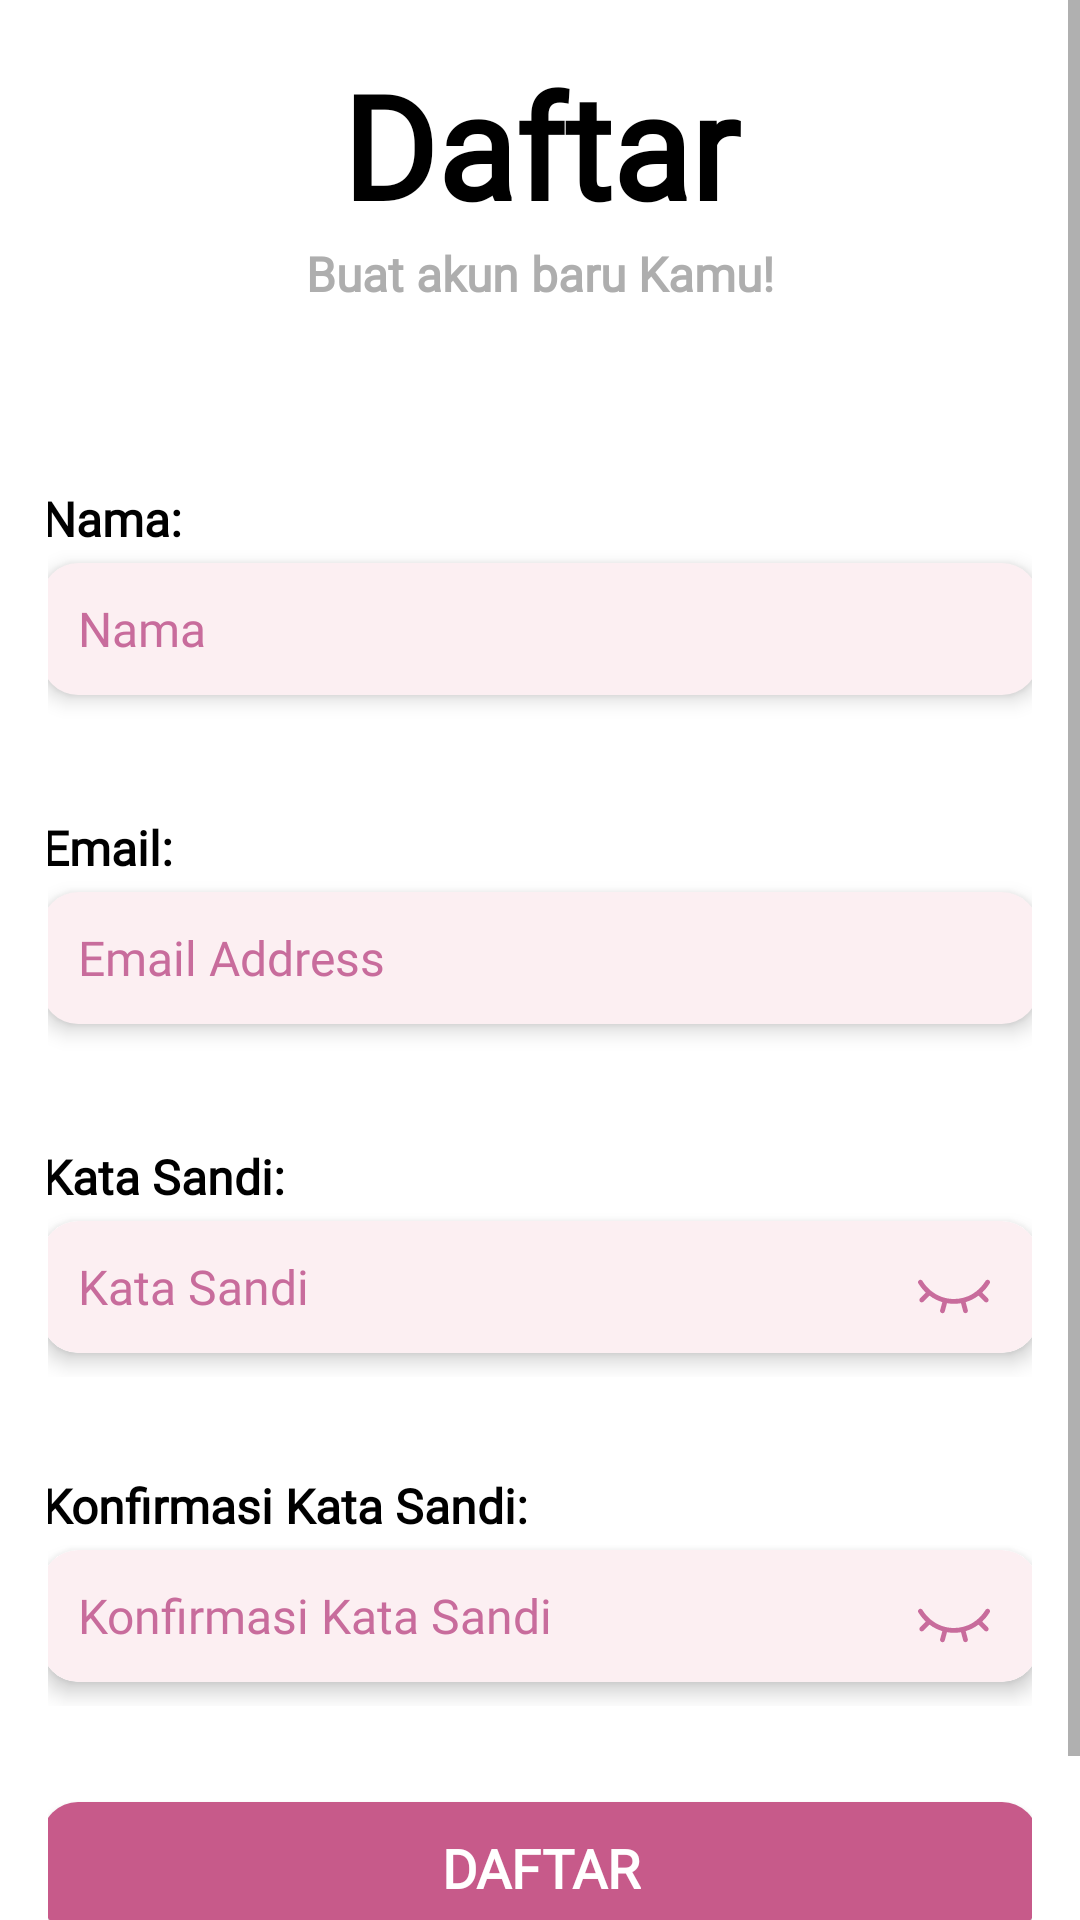

Named icons in this screenshot (1080*1920) and their bounding boxes, (x1, y1, x2, y2):
Toggle Password: (918, 1279, 990, 1314), (918, 1608, 990, 1643)
